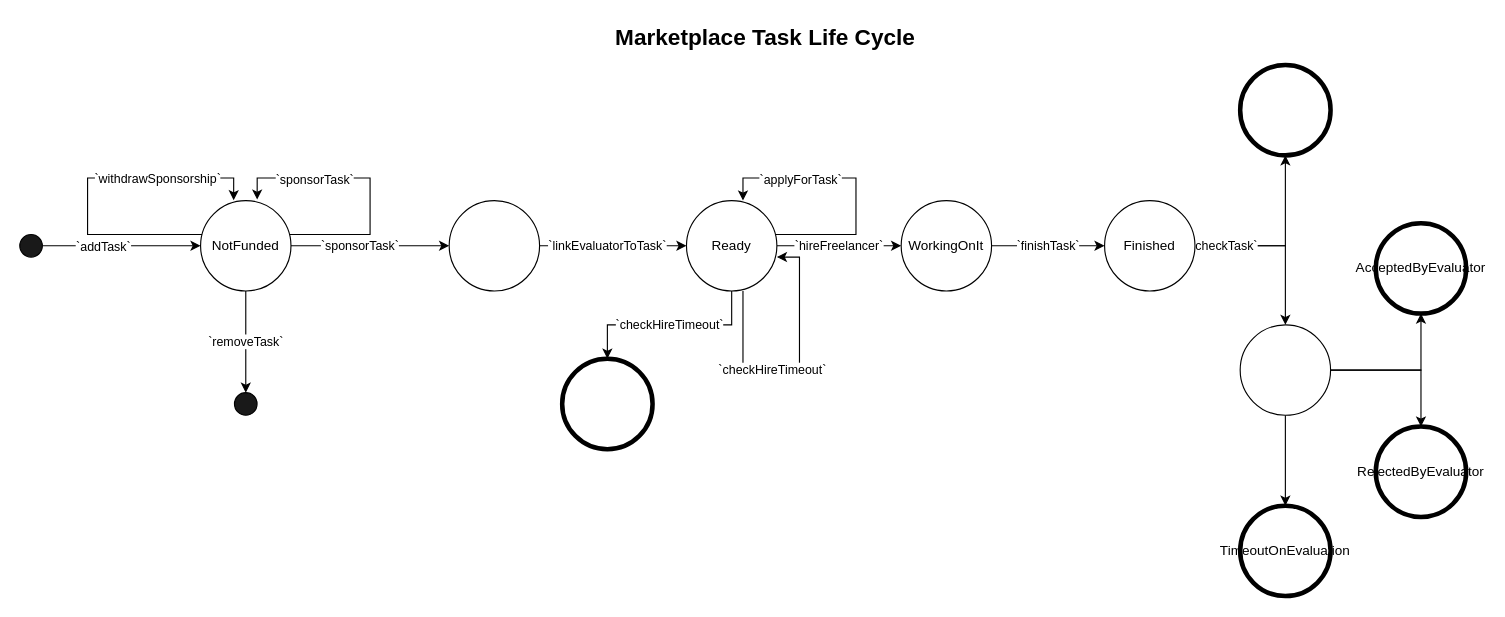
This 1505x617 diagram has some shape labels left out. Each missing label, with the centre of its shape:
Accepted: the point at 1284,109
Funded: the point at 494,245
TimeoutOnHiring: the point at 606,403
WaitingForEvaluation: the point at 1285,369
